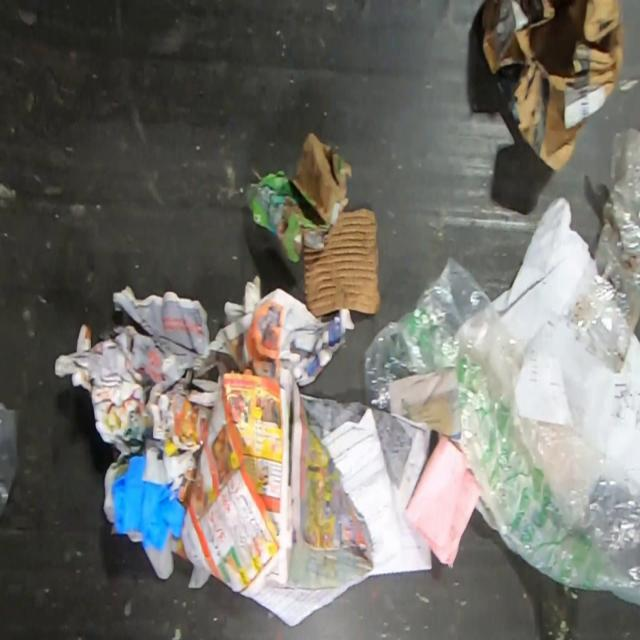cardboard: (478, 0, 626, 173), (245, 131, 352, 264), (302, 207, 383, 317)
soft_plastic: (362, 254, 640, 608), (560, 125, 640, 376), (0, 399, 19, 522)
